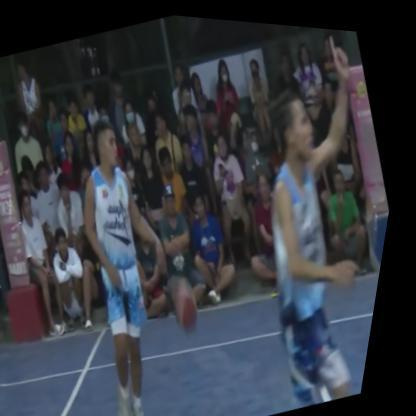basketball: (168, 271, 219, 335)
